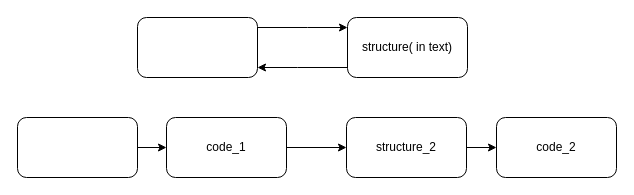
The diagram is 634 pixels wide and 195 high, and some of its shapes have lost their labels. Each missing label, with the centre of its shape:
code: (197,47)
structure_1: (77,147)
